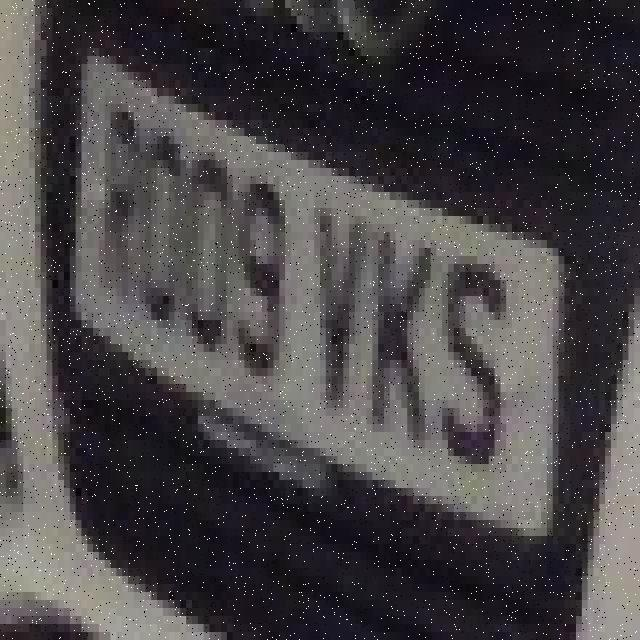licenseplate: (60, 38, 570, 540)
